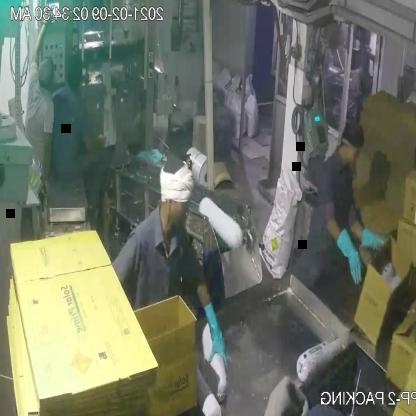glove: (198, 295, 236, 378), (333, 226, 368, 286), (357, 223, 389, 261)
